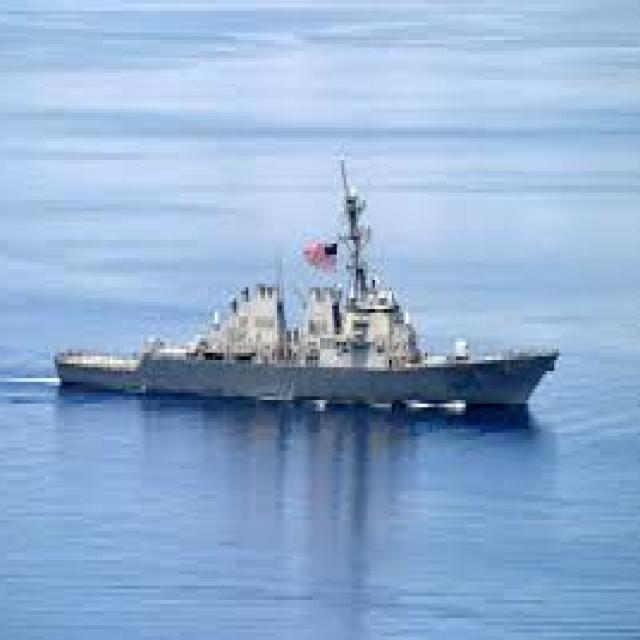navalvessels: (52, 144, 562, 426)
